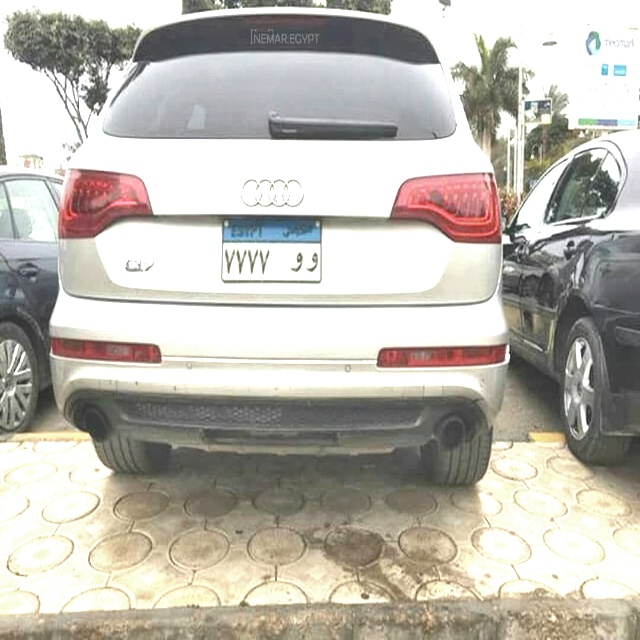License Plate: (217, 215, 324, 287)
